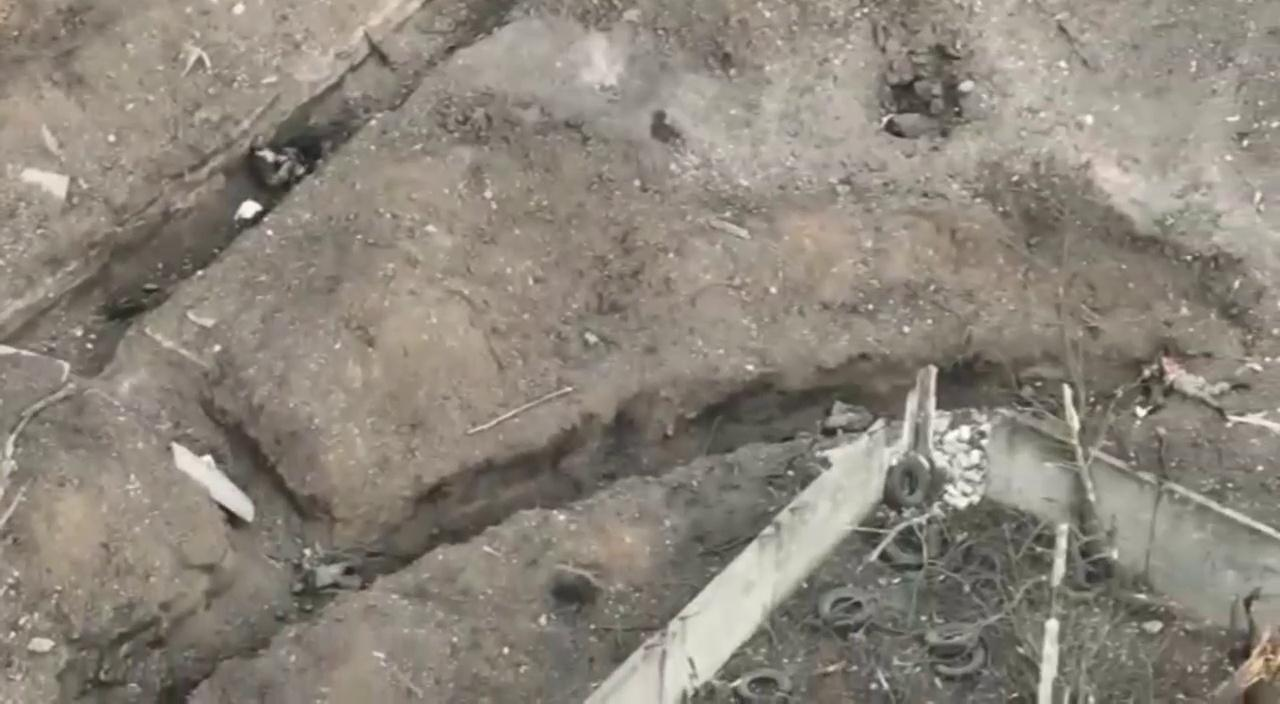person: (1107, 354, 1255, 418), (252, 132, 316, 191), (287, 556, 368, 596)
trench: (355, 249, 1258, 605), (25, 1, 526, 298), (6, 309, 359, 701)
